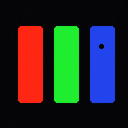0 point: (99, 44, 103, 48)
